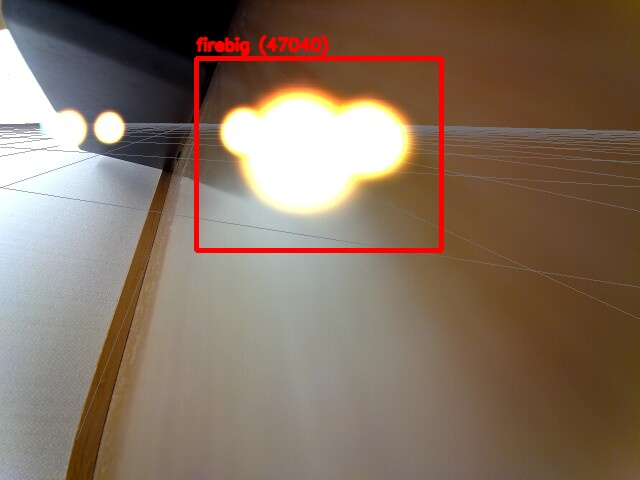firebig: (196, 58, 441, 250)
